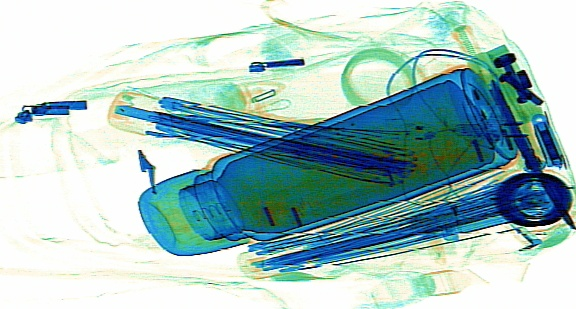lighter: (421, 150, 465, 243)
